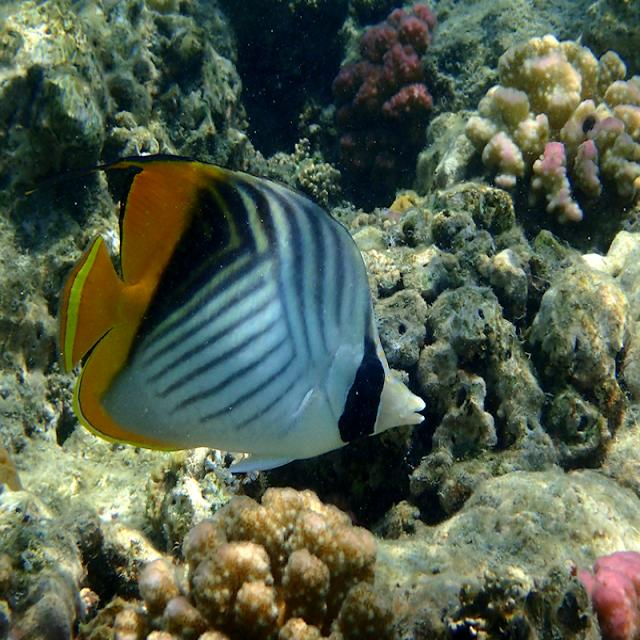ButterflyFish: (64, 161, 425, 471)
